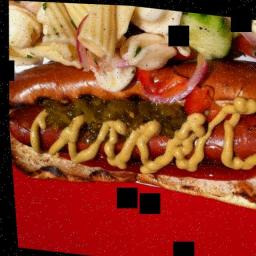hotdog: (5, 85, 256, 175)
